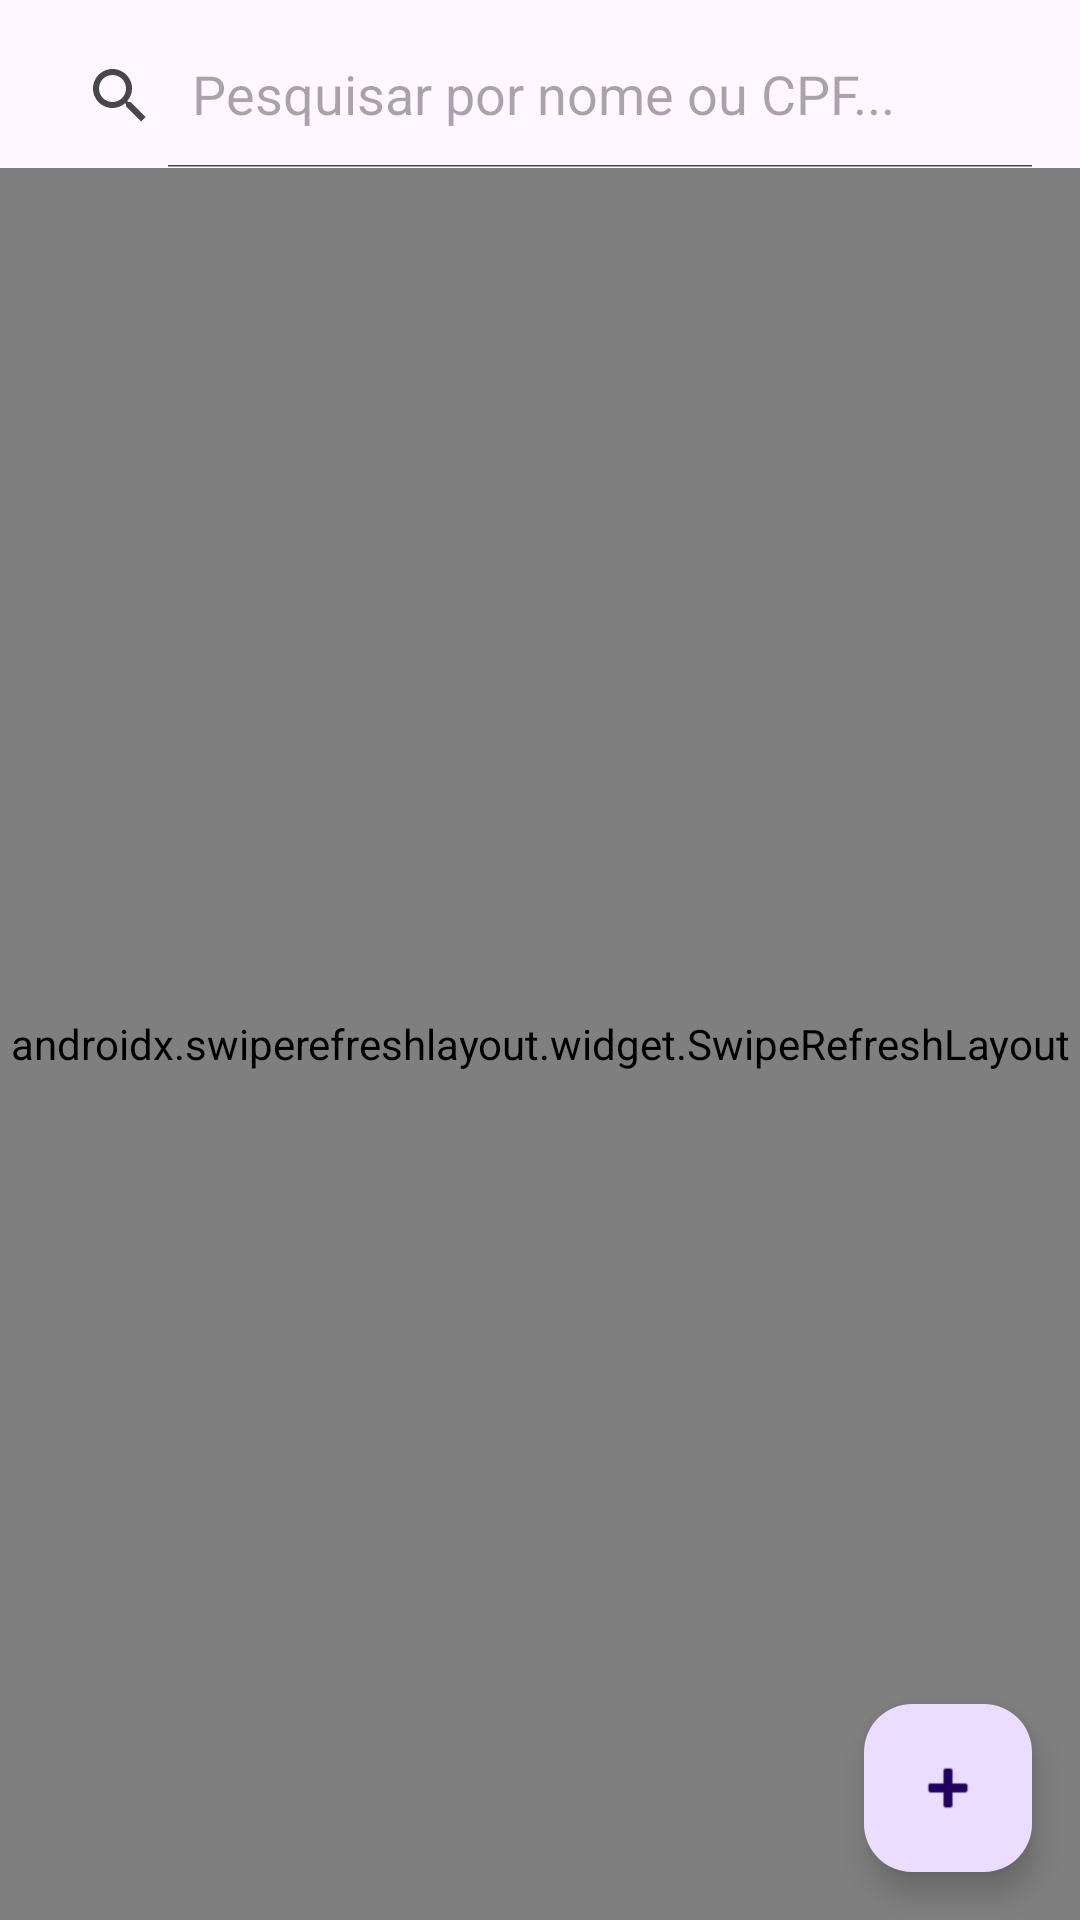

Named icons in this screenshot (1080×1920) and their bounding boxes, bbox(x1, y1, x2, y2):
Adicionar Colaborador: bbox(864, 1704, 1032, 1872)
